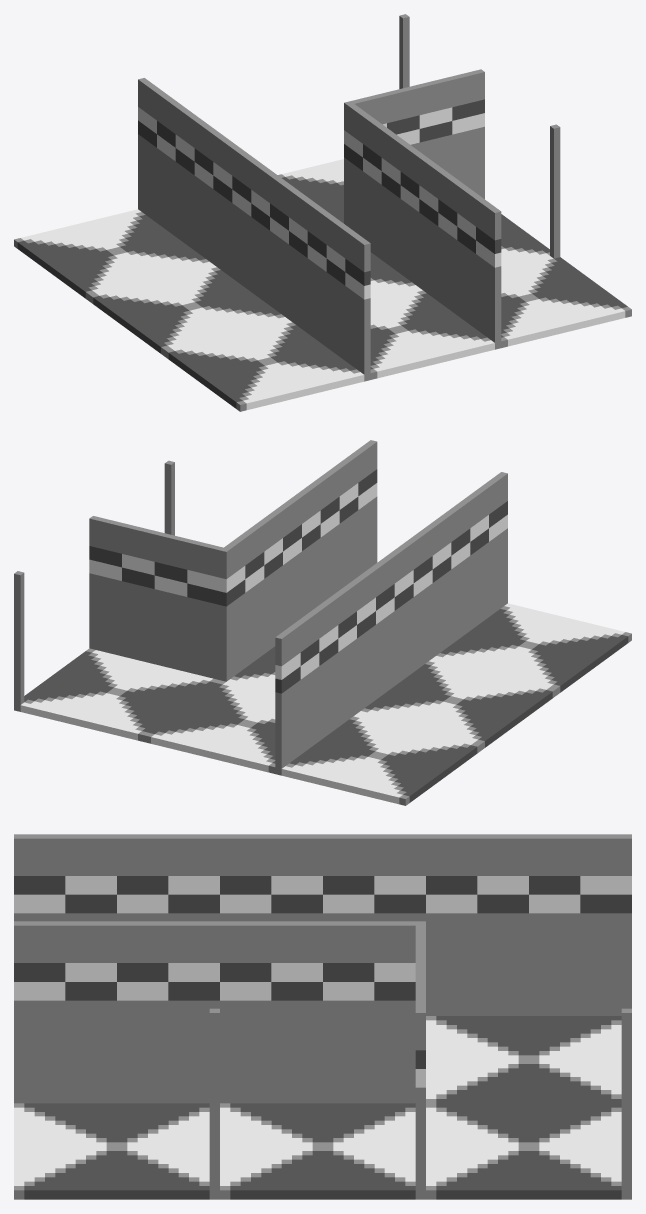
File: level_maze-13.obj
3 renders of one model, top to bottom at view 1: azimuth 30°, elevation 25°; view 2: azimuth 150°, elevation 25°; view 3: azimuth 270°, elevation 25°, orthographic. The views are drawn at different scales.
Parts seen in each view (by area): view 1: level_maze-13; view 2: level_maze-13; view 3: level_maze-13.
Part boxes in pixels (box(x1,y1,x2,y2)): level_maze-13: box(14, 14, 631, 411); level_maze-13: box(14, 440, 631, 805); level_maze-13: box(14, 834, 631, 1199).
Bounding box in the file's own units: 60 × 20 × 60.
Materials: 1 (1 with a texture image).
